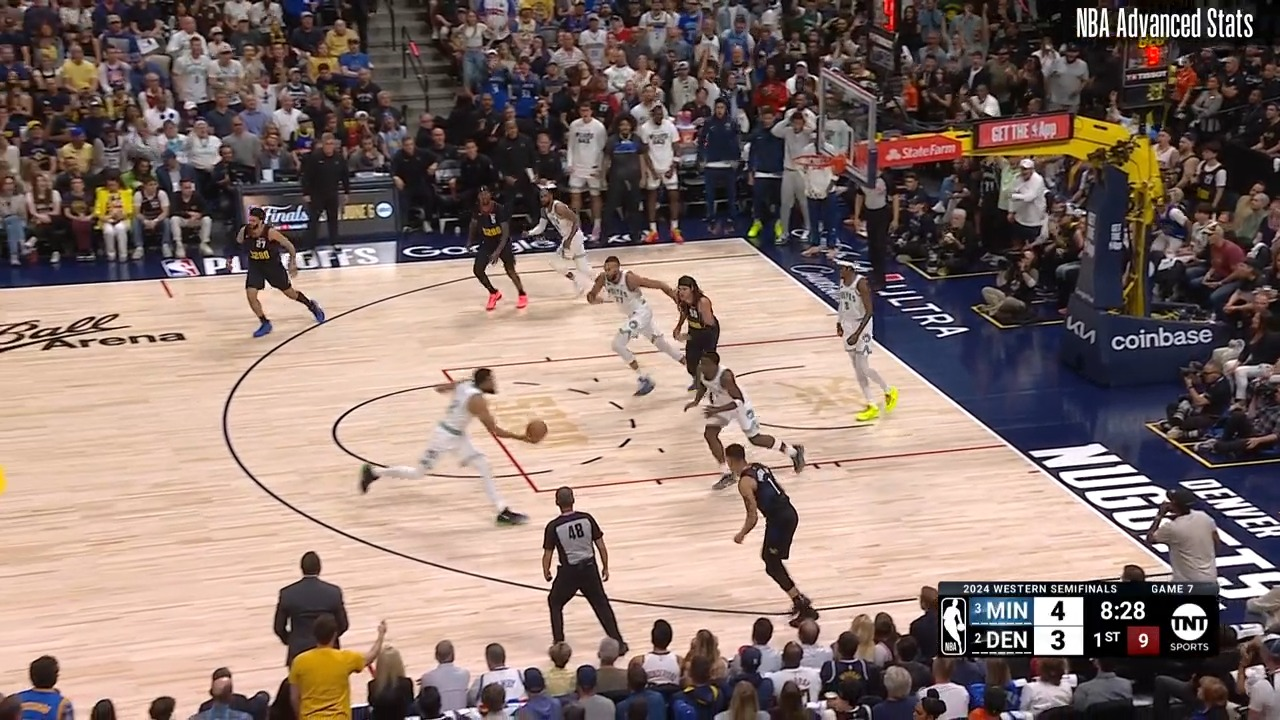basketball: (524, 419, 550, 444)
